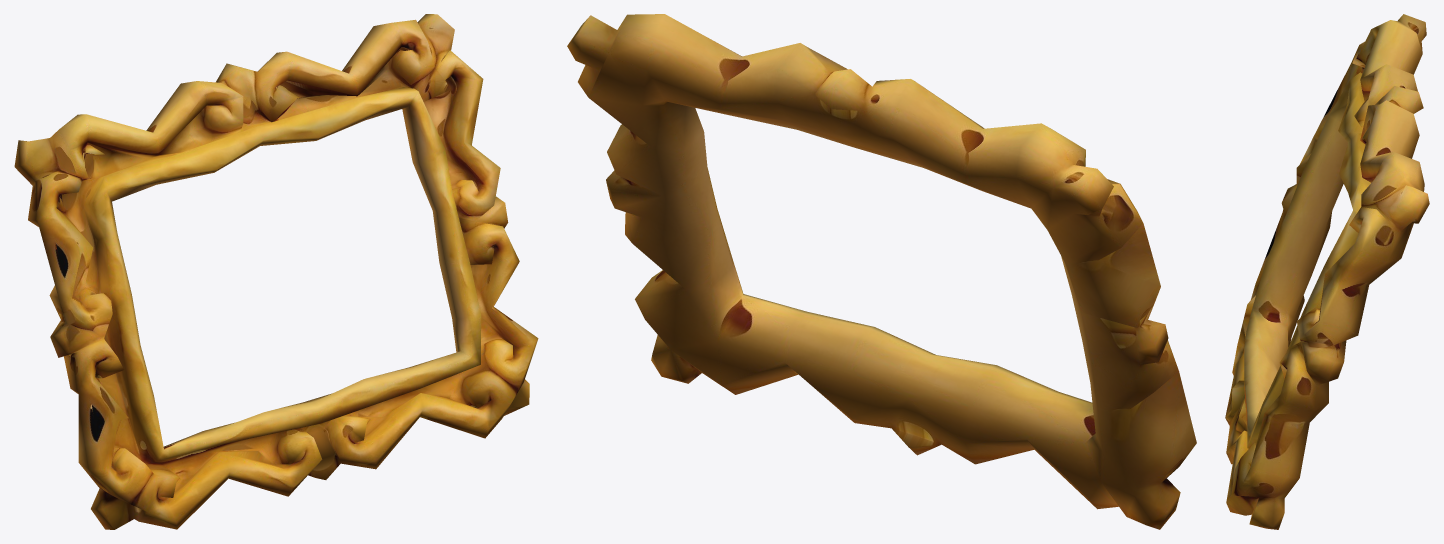
The model's file is cerceve.glb.
3 views of the same model, side by side, from view 1: azimuth 30°, elevation 25°; view 2: azimuth 150°, elevation 25°; view 3: azimuth 270°, elevation 25° (orthographic). The views are drawn at different scales.
Parts seen in each view (by area): view 1: tripo_node_e00de387-59cd-4844-9be3-7d364f3072d3; view 2: tripo_node_e00de387-59cd-4844-9be3-7d364f3072d3; view 3: tripo_node_e00de387-59cd-4844-9be3-7d364f3072d3.
Boxes of the visible parts, x1,y1,x2,y2 form: tripo_node_e00de387-59cd-4844-9be3-7d364f3072d3: [14, 14, 538, 529]; tripo_node_e00de387-59cd-4844-9be3-7d364f3072d3: [567, 14, 1196, 529]; tripo_node_e00de387-59cd-4844-9be3-7d364f3072d3: [1225, 14, 1429, 529].
Size of the model in its own units: 0.9771 by 0.7859 by 0.3882.
Materials: 1 (1 with a texture image).
